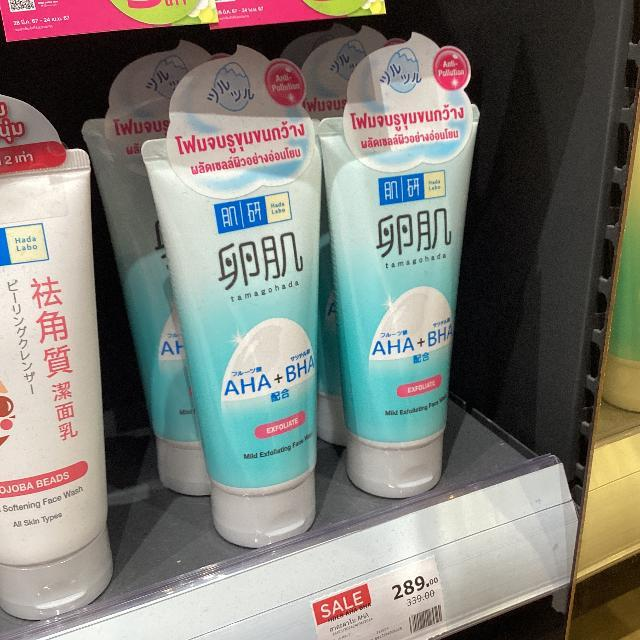Squeeze Tube: (124, 77, 367, 577)
